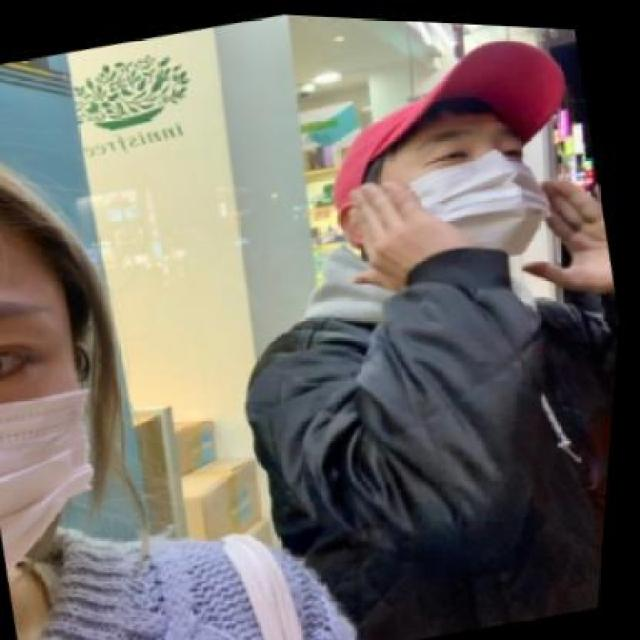hat: (297, 12, 601, 248)
